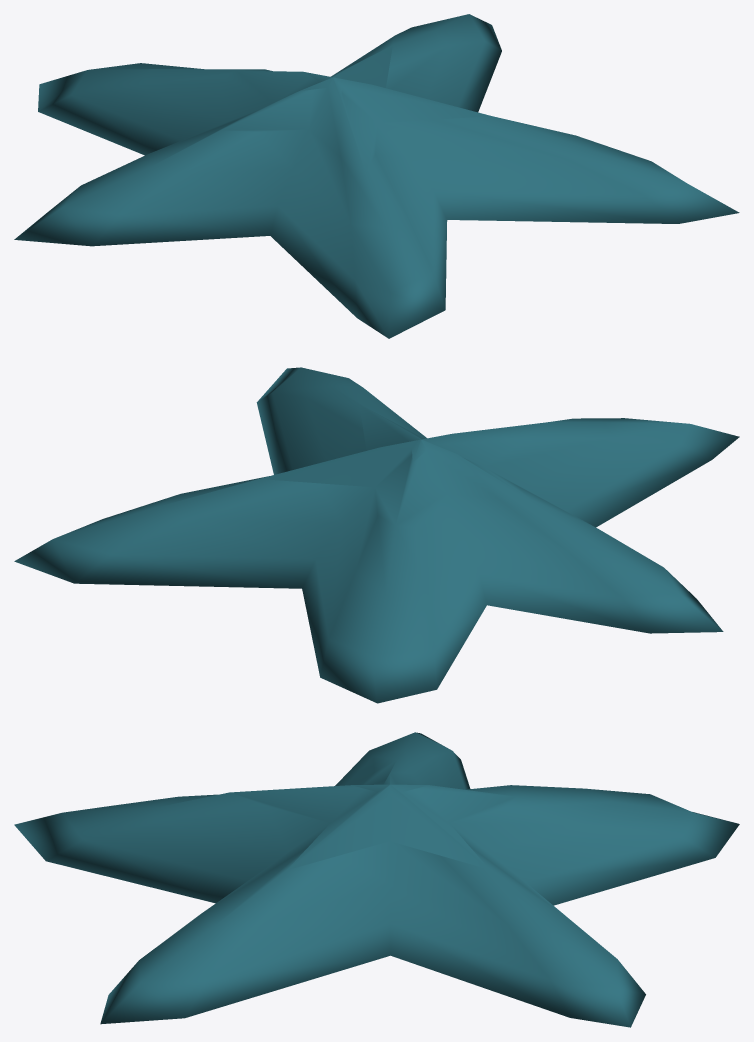
File: G_StarfishB.gltf
3 renders of one model, top to bottom at view 1: azimuth 30°, elevation 25°; view 2: azimuth 150°, elevation 25°; view 3: azimuth 270°, elevation 25°, orthographic. The views are drawn at different scales.
Visible parts, largest first — view 1: Cylinder; view 2: Cylinder; view 3: Cylinder.
Boxes of the visible parts, box(x1,y1,x2,y2) form: Cylinder: box(14, 14, 739, 338); Cylinder: box(14, 367, 739, 703); Cylinder: box(14, 732, 739, 1027).
Bounding box in the file's own units: 0.7585 × 0.1239 × 0.7908.
